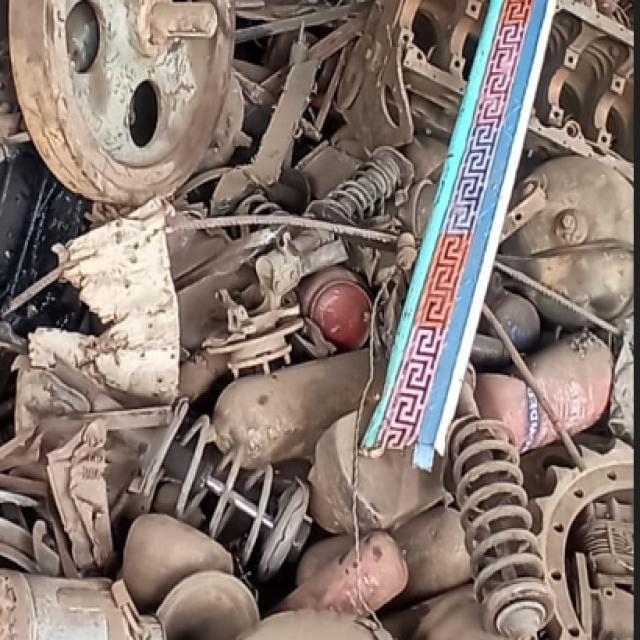shock absorber: (2, 318, 313, 578), (447, 359, 557, 638), (300, 144, 415, 226)
